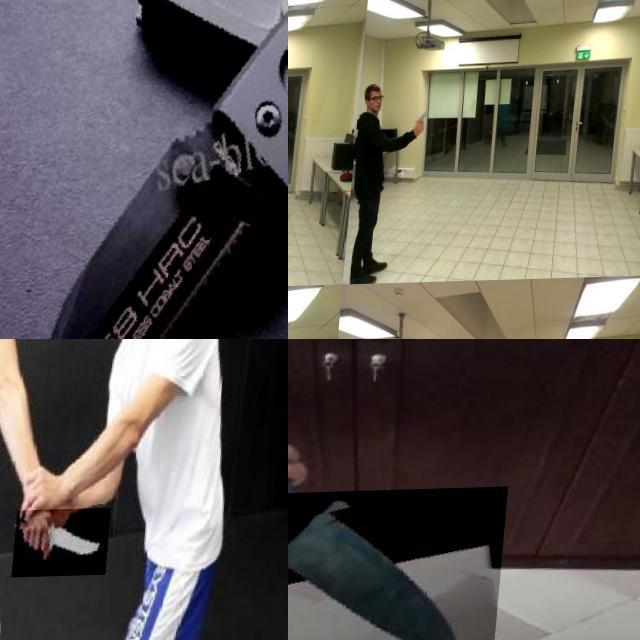-: (0, 0, 288, 339), (288, 489, 512, 640), (20, 510, 120, 579)
gun-knife-thesis - v11 Yolov5 augmented: (413, 107, 430, 134), (288, 110, 297, 146)
